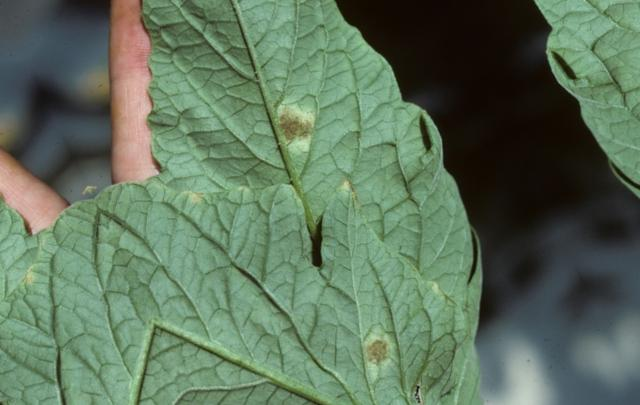Tomato mold leaf: (53, 0, 563, 405), (78, 45, 526, 405)
